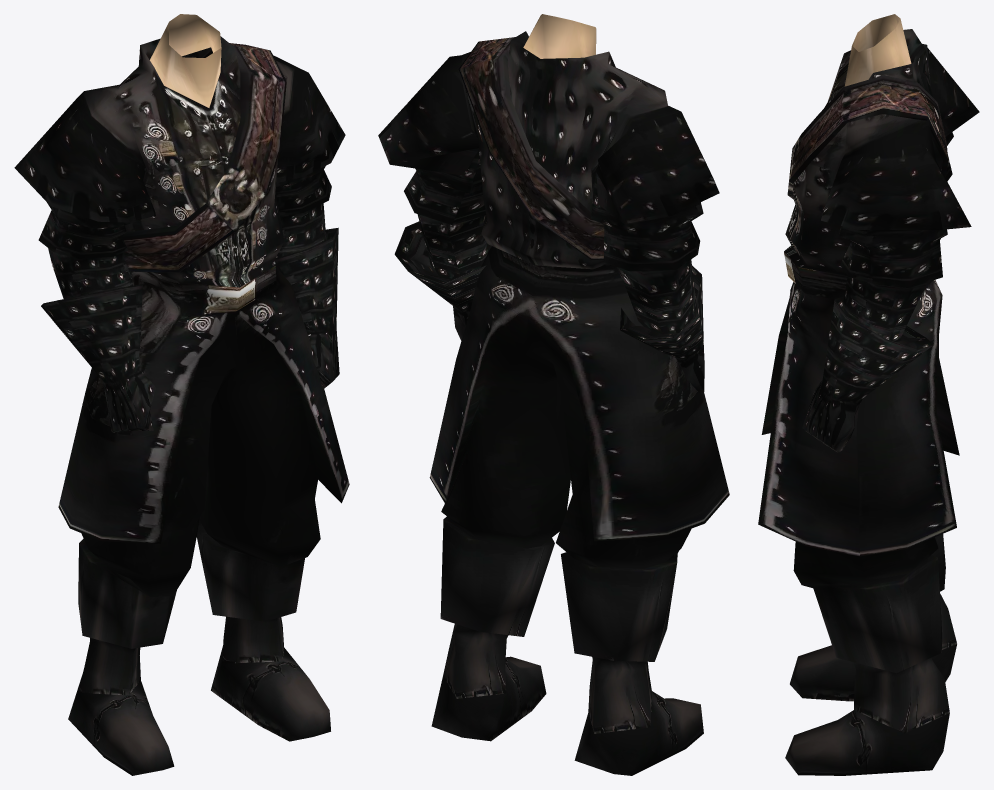
File: KM_PIR_H.glb
3 views of the same model, side by side, from view 1: azimuth 30°, elevation 25°; view 2: azimuth 150°, elevation 25°; view 3: azimuth 270°, elevation 25° (orthographic). The views are drawn at different scales.
Visible parts, largest first — view 1: KM_PIR_H; view 2: KM_PIR_H; view 3: KM_PIR_H.
Boxes of the visible parts, left/top/right/bottom form: KM_PIR_H: left=14, top=14, right=349, bottom=775; KM_PIR_H: left=378, top=14, right=729, bottom=775; KM_PIR_H: left=758, top=14, right=979, bottom=775.
Size of the model in its own units: 0.7425 by 1.69 by 0.4803.
2 materials, 2 textured.
